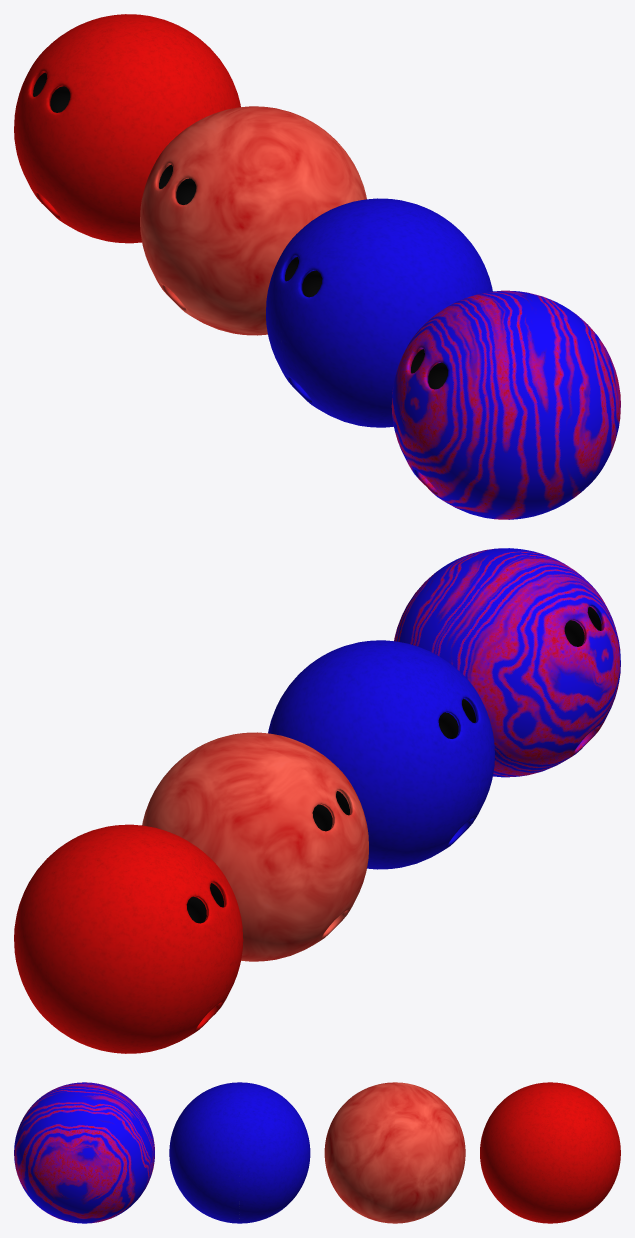
File: bowling_balls.glb
3 views of the same model, one above another, from view 1: azimuth 30°, elevation 25°; view 2: azimuth 150°, elevation 25°; view 3: azimuth 270°, elevation 25° (orthographic). The views are drawn at different scales.
Parts seen in each view (by area): view 1: BowlingBlue2, BowlingRed2, BowlingBlue, BowlingRed; view 2: BowlingRed, BowlingBlue, BowlingRed2, BowlingBlue2; view 3: BowlingBlue, BowlingRed2, BowlingBlue2, BowlingRed.
Boxes of the visible parts, x1,y1,x2,y2 form: BowlingBlue2: [391, 290, 620, 519]; BowlingRed2: [140, 106, 366, 335]; BowlingBlue: [266, 198, 492, 427]; BowlingRed: [14, 14, 240, 243]; BowlingRed: [14, 824, 243, 1053]; BowlingBlue: [268, 640, 494, 869]; BowlingRed2: [142, 732, 368, 961]; BowlingBlue2: [394, 548, 620, 777]; BowlingBlue: [169, 1082, 310, 1223]; BowlingRed2: [324, 1082, 465, 1223]; BowlingBlue2: [14, 1082, 154, 1223]; BowlingRed: [480, 1082, 620, 1223].
Size of the model in its own units: 4.74 by 4.74 by 20.38.
Materials: 1 (1 with a texture image).
